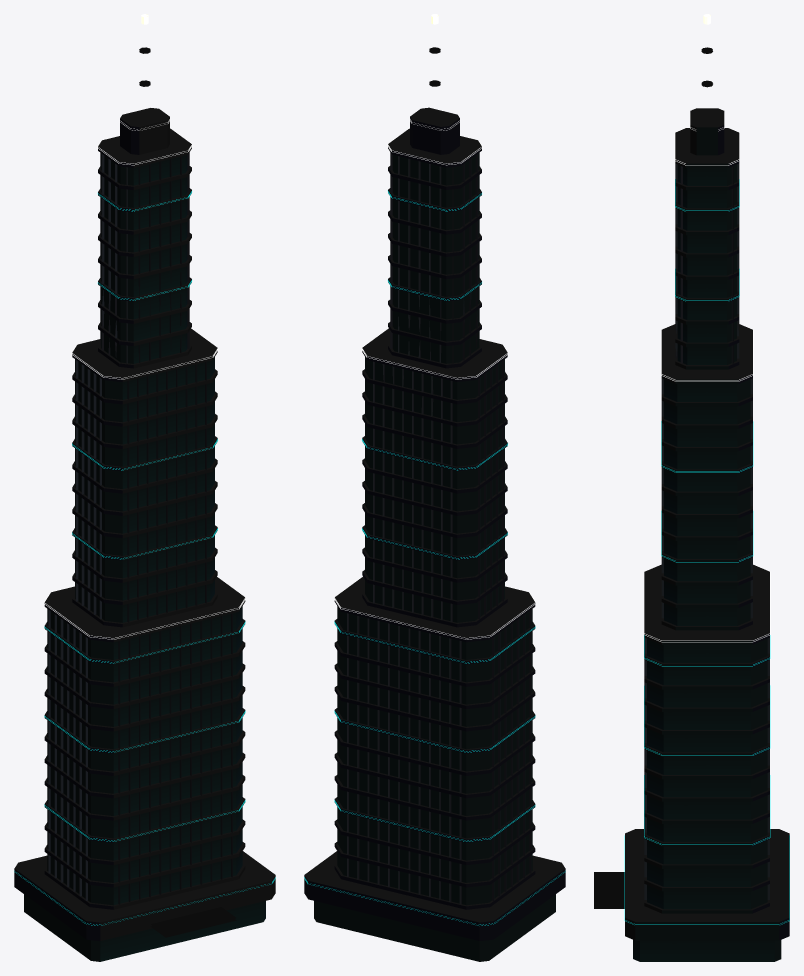
File: sc-tower-setback-lod1.glb
3 renders of one model, left to right at view 1: azimuth 30°, elevation 25°; view 2: azimuth 150°, elevation 25°; view 3: azimuth 270°, elevation 25°, orthographic.
Parts seen in each view (by area): view 1: shaddai_tower_setback_terraces.001; view 2: shaddai_tower_setback_terraces.001; view 3: shaddai_tower_setback_terraces.001.
Boxes of the visible parts, <box> form: shaddai_tower_setback_terraces.001: <box>14,14,275,961</box>; shaddai_tower_setback_terraces.001: <box>304,14,565,961</box>; shaddai_tower_setback_terraces.001: <box>594,14,789,961</box>.
Bounding box in the file's own units: 32.07 × 145 × 28.55.
